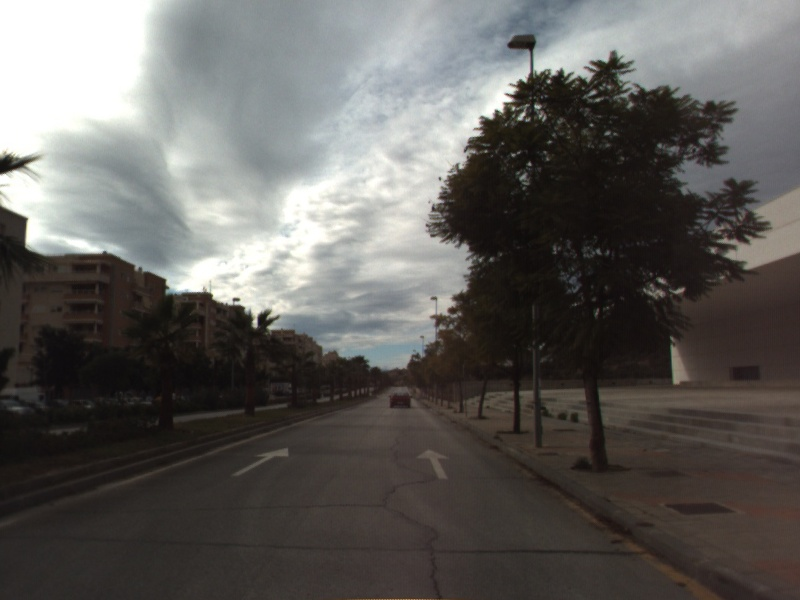STRAIGHT: (229, 446, 290, 478), (414, 447, 451, 481)
